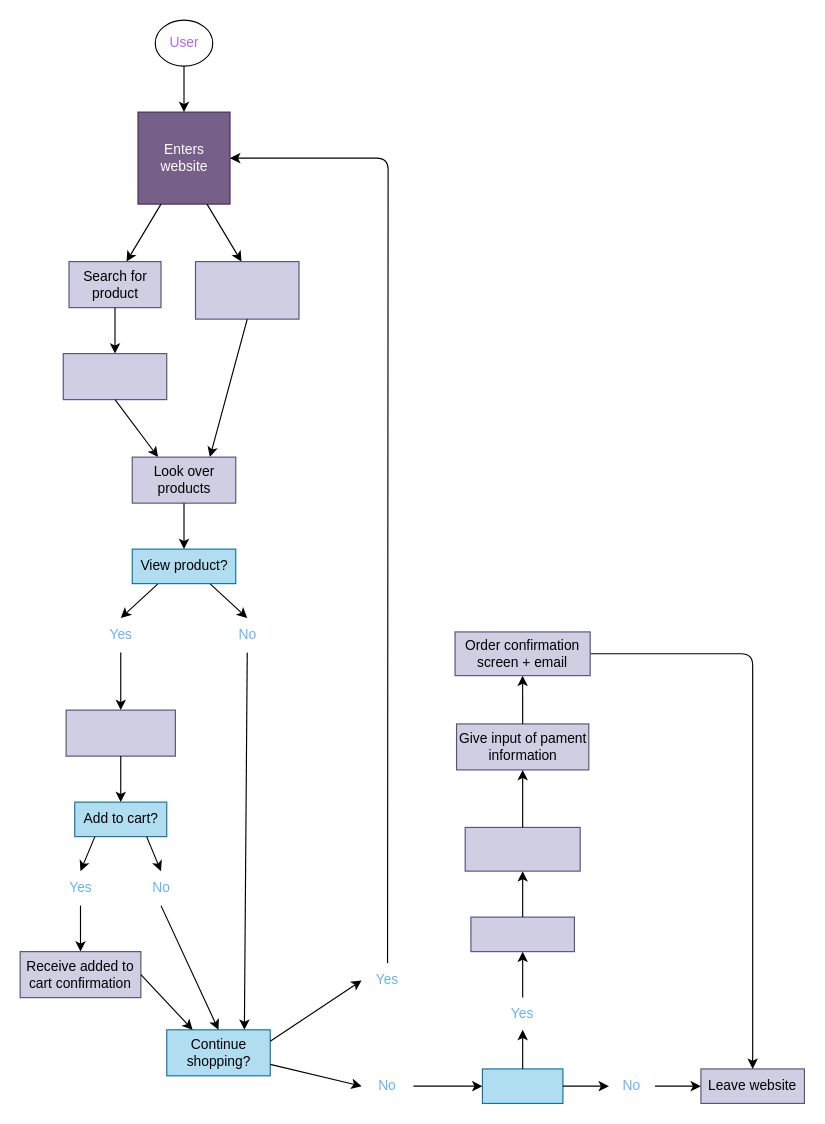
Some shapes in this 825 by 1124 pixel diagram are drawn without their labels. The centre of each missing label's shape, as x and y in pixels:
Check out?: point 522,1085
Explore products on home page: point 246,289
Product's webpage opens: point 120,732
Provide input of the search: point 114,376
View cart: point 522,934
View payment: point 522,848
